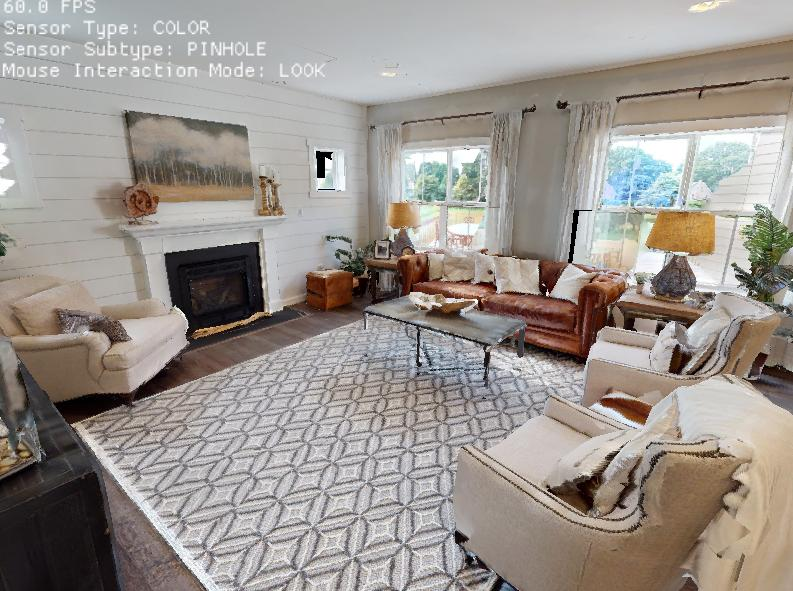sofa: (421, 381, 756, 591), (0, 256, 196, 408), (401, 224, 606, 367), (577, 281, 791, 399)
table: (341, 274, 530, 387)
